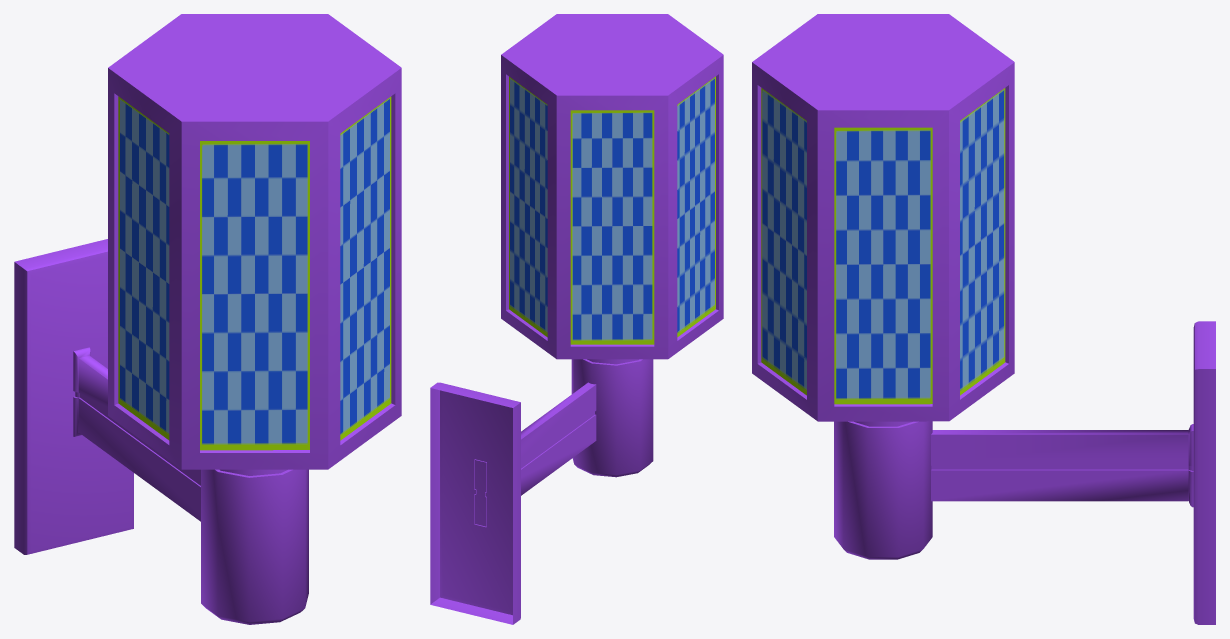
Rendered from LightWall11_1.FBX.
The picture shows the model from 3 angles, left to right: view 1: azimuth 30°, elevation 25°; view 2: azimuth 150°, elevation 25°; view 3: azimuth 270°, elevation 25°; orthographic projection. The views are drawn at different scales.
Parts seen in each view (by area): view 1: Body, Glass; view 2: Body, Glass; view 3: Body, Glass.
Part boxes in pixels (<box>): Body: <box>14,14,401,624</box>; Glass: <box>118,96,391,450</box>; Body: <box>430,14,723,624</box>; Glass: <box>509,76,715,344</box>; Body: <box>752,14,1215,624</box>; Glass: <box>761,88,1005,404</box>.
Bounding box in the file's own units: 12.8 × 32.59 × 25.42.
